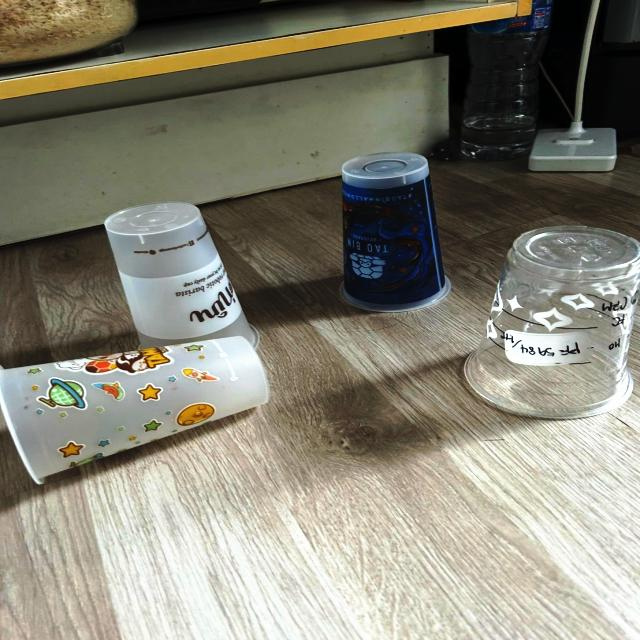Plastic Cup: (0, 337, 269, 484), (465, 227, 639, 419), (105, 203, 258, 346), (341, 153, 449, 312)
